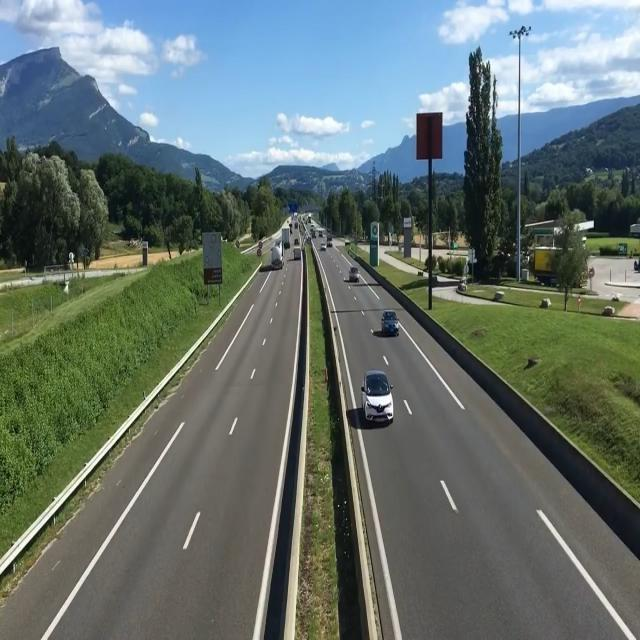Car: (360, 369, 396, 424), (378, 310, 398, 334), (349, 266, 360, 282)
Truck: (270, 239, 284, 269), (282, 227, 290, 250), (294, 248, 302, 260)
